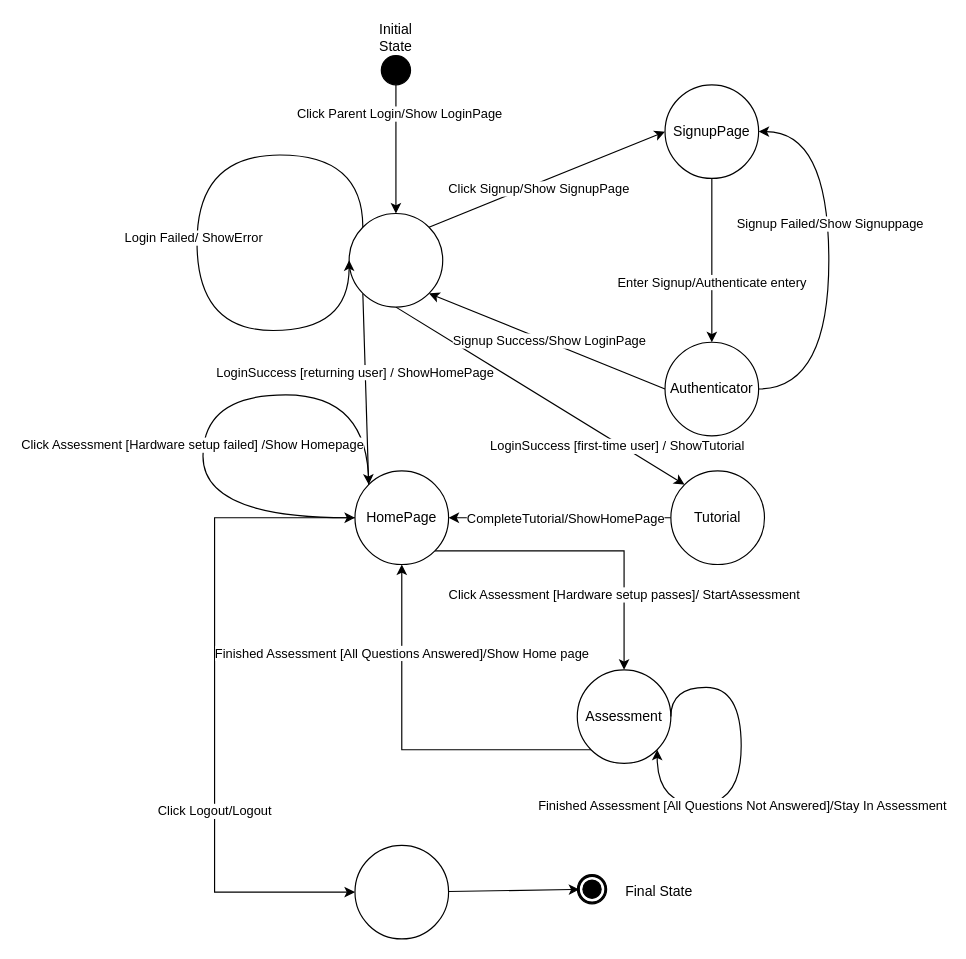
The diagram is 966 pixels wide and 959 high, and some of its shapes have lost their labels. Here are the shapes that lost their labels. From the top down, the centre of each, then its label:
At [395,259]: "LoginPage".
At [401,891]: "Logout".
